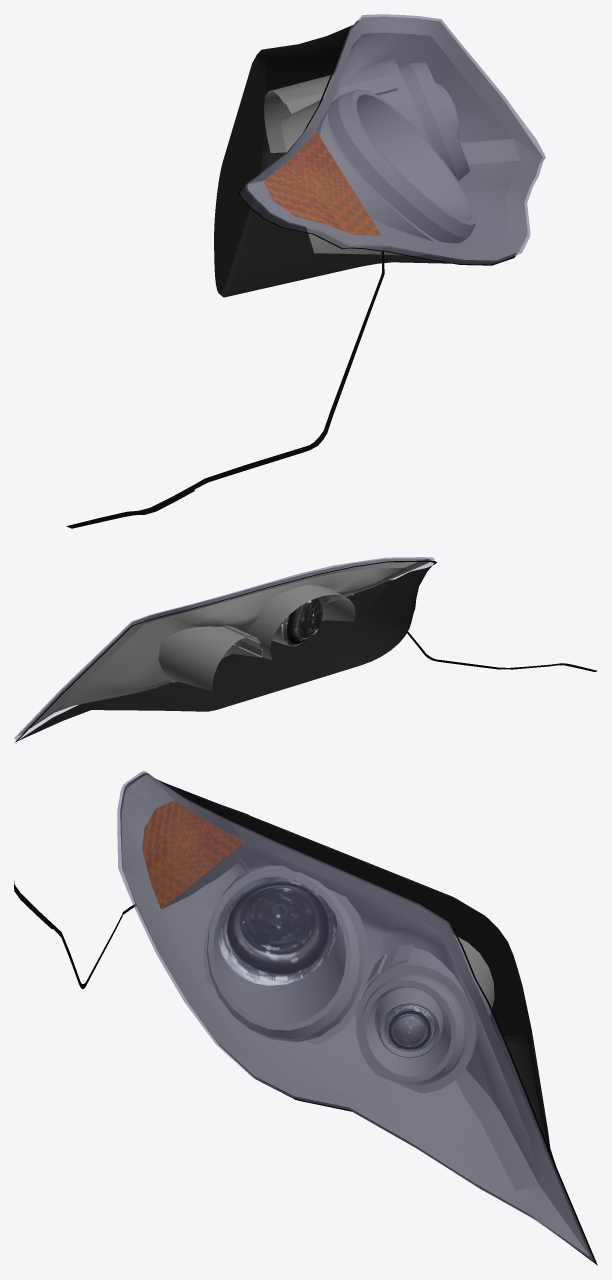
3 views of the same model, one above another, from view 1: azimuth 30°, elevation 25°; view 2: azimuth 150°, elevation 25°; view 3: azimuth 270°, elevation 25° (orthographic). The views are drawn at different scales.
Visible parts, largest first — view 1: Y156_061B_R_Y156_061B_R_6_DTaSI, Y156_061B_R_Y156_061B_R_3_DaS, Y156_061B_R_Y156_061B_R_5_D, Y156_061B_R_Y156_061B_R_4_N, Y156_061B_R_Y156_061B_R_7_D; view 2: Y156_061B_R_Y156_061B_R_3_DaS, Y156_061B_R_Y156_061B_R_5_D, Y156_061B_R_Y156_061B_R_6_DTaSI, Y156_061B_R_1_N_Y156_061B_R, Y156_061B_R_Y156_061B_R_7_D; view 3: Y156_061B_R_Y156_061B_R_6_DTaSI, Y156_061B_R_Y156_061B_R_3_DaS, Y156_061B_R_Y156_061B_R_5_D, Y156_061B_R_1_N_Y156_061B_R, Y156_061B_R_Y156_061B_R_4_N, Y156_061B_R_Y156_061B_R_7_D, Y156_061B_R_Y156_061B_R_2_N.
Part boxes in pixels (x1,y1,x2,y2): Y156_061B_R_Y156_061B_R_6_DTaSI: (240, 14, 545, 264); Y156_061B_R_Y156_061B_R_3_DaS: (247, 16, 542, 260); Y156_061B_R_Y156_061B_R_5_D: (214, 25, 513, 297); Y156_061B_R_Y156_061B_R_4_N: (263, 131, 381, 235); Y156_061B_R_Y156_061B_R_7_D: (66, 21, 516, 528); Y156_061B_R_Y156_061B_R_3_DaS: (18, 558, 430, 735); Y156_061B_R_Y156_061B_R_5_D: (18, 564, 433, 740); Y156_061B_R_Y156_061B_R_6_DTaSI: (14, 557, 434, 740); Y156_061B_R_1_N_Y156_061B_R: (281, 598, 322, 646); Y156_061B_R_Y156_061B_R_7_D: (14, 560, 597, 742); Y156_061B_R_Y156_061B_R_6_DTaSI: (117, 771, 594, 1262); Y156_061B_R_Y156_061B_R_3_DaS: (121, 774, 589, 1256); Y156_061B_R_Y156_061B_R_5_D: (156, 779, 594, 1261); Y156_061B_R_1_N_Y156_061B_R: (219, 879, 336, 985); Y156_061B_R_Y156_061B_R_4_N: (142, 800, 244, 909); Y156_061B_R_Y156_061B_R_7_D: (14, 773, 597, 1265); Y156_061B_R_Y156_061B_R_2_N: (383, 1005, 435, 1052).
Size of the model in its own units: 69.86 by 25.31 by 50.87.
